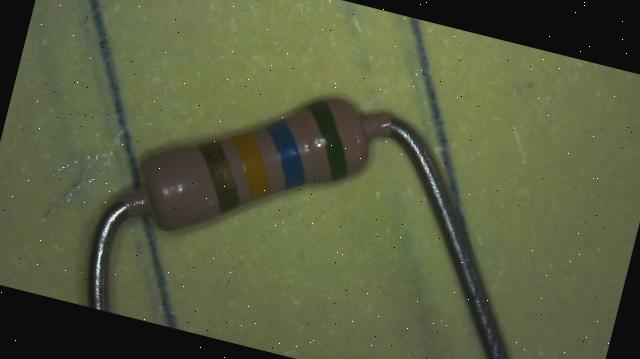blue: (255, 117, 318, 192)
gold: (185, 137, 252, 215)
green: (291, 97, 362, 183)
resistor: (95, 70, 406, 265)
yellow: (218, 128, 281, 202)
